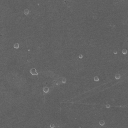corrosion: (29, 67, 39, 77), (42, 85, 50, 95), (13, 42, 20, 50), (60, 77, 67, 85), (23, 8, 30, 15), (121, 48, 128, 55), (114, 73, 121, 80), (98, 120, 105, 126), (93, 76, 99, 82), (78, 53, 83, 59), (105, 103, 110, 109), (113, 50, 118, 55)
